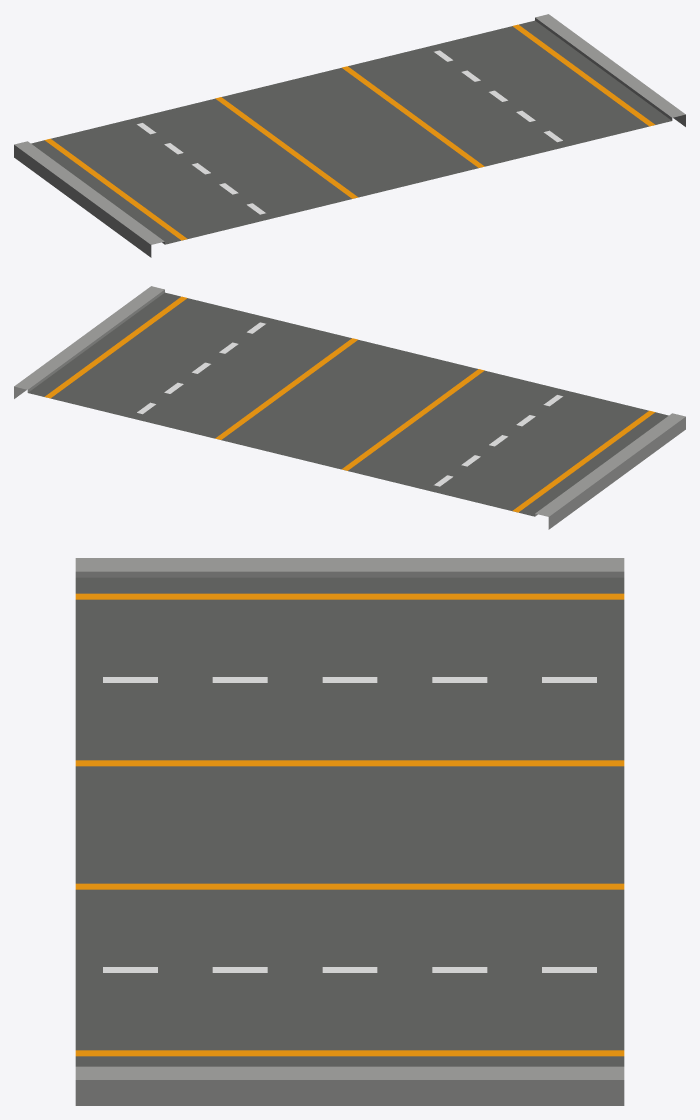
File: Road_B_2L_1_1.fbx
3 views of the same model, one above another, from view 1: azimuth 30°, elevation 25°; view 2: azimuth 150°, elevation 25°; view 3: azimuth 270°, elevation 25° (orthographic). The views are drawn at different scales.
Parts seen in each view (by area): view 1: Road_B_2L_1_1; view 2: Road_B_2L_1_1; view 3: Road_B_2L_1_1.
Part boxes in pixels (left/top/right/bottom): Road_B_2L_1_1: left=14, top=14, right=685, bottom=257; Road_B_2L_1_1: left=14, top=286, right=685, bottom=529; Road_B_2L_1_1: left=75, top=558, right=624, bottom=1105.
Size of the model in its own units: 1800 by 41.48 by 800.
